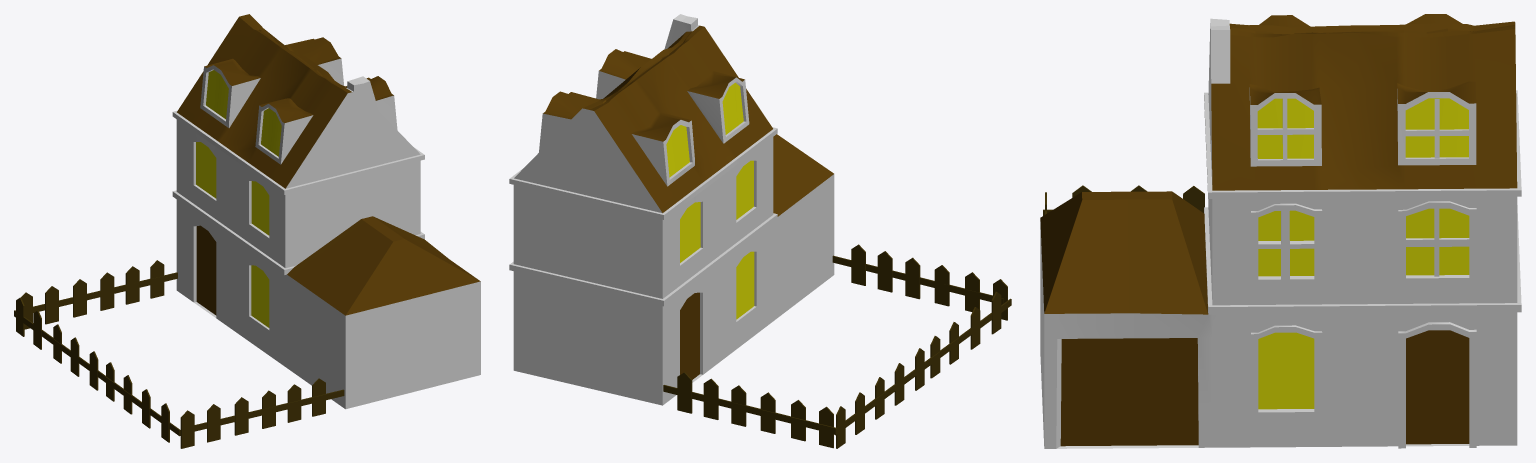
The model's file is Huis heel.fbx.
3 renders of one model, left to right at view 1: azimuth 30°, elevation 25°; view 2: azimuth 150°, elevation 25°; view 3: azimuth 270°, elevation 25°, orthographic. The views are drawn at different scales.
Parts seen in each view (by area): view 1: pCube49, pCube3, pCube48, pCube45, pCube44, pCube46, pCube30, pCube25, pCube26, pCube27, pCube33, pCube31; view 2: pCube49, pCube48, pCube3, pCube46, pCube45, pCube44, pCube32, pCube34, pCube23, pCube24, pCube29, pCube31 (+2 smaller); view 3: pCube49, pCube48, pCube3.
Part boxes in pixels (x1,y1,x2,y2): pCube49: [172, 14, 480, 409]; pCube3: [172, 14, 424, 408]; pCube48: [173, 15, 448, 386]; pCube45: [14, 310, 180, 436]; pCube44: [194, 389, 344, 431]; pCube46: [33, 272, 177, 312]; pCube30: [180, 410, 194, 448]; pCube25: [100, 272, 114, 310]; pCube26: [73, 279, 86, 317]; pCube27: [45, 286, 58, 324]; pCube33: [207, 404, 220, 442]; pCube31: [234, 397, 248, 435]; pCube49: [509, 14, 834, 405]; pCube48: [509, 26, 807, 404]; pCube3: [510, 46, 777, 377]; pCube46: [663, 385, 836, 433]; pCube45: [834, 298, 1011, 435]; pCube44: [832, 255, 1003, 304]; pCube32: [877, 251, 892, 292]; pCube34: [905, 257, 920, 299]; pCube23: [677, 372, 692, 413]; pCube24: [703, 378, 718, 419]; pCube29: [851, 244, 865, 285]; pCube31: [934, 265, 949, 306]; pCube49: [1040, 14, 1521, 448]; pCube48: [1040, 14, 1520, 448]; pCube3: [1040, 14, 1520, 448].
Bounding box in the file's own units: 10.27 × 8.76 × 9.76.
